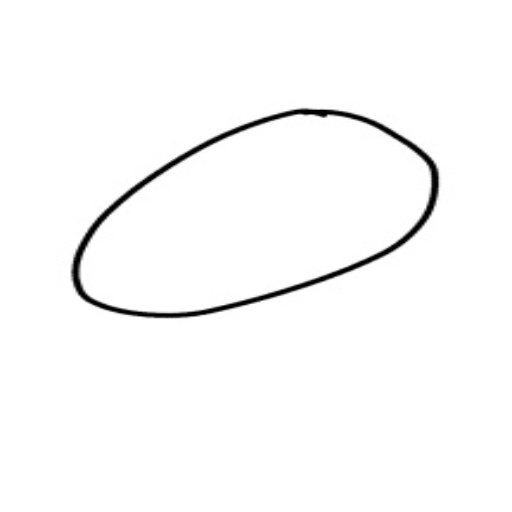circle: (63, 95, 445, 322)
